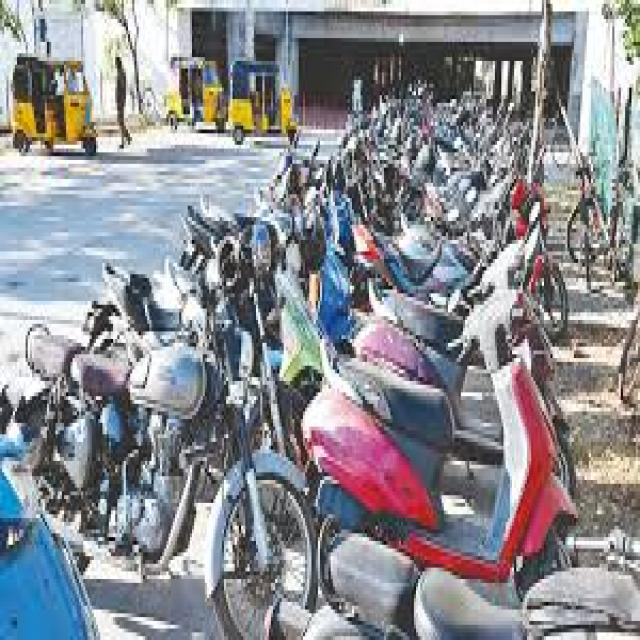No Parking: (233, 107, 536, 640)
